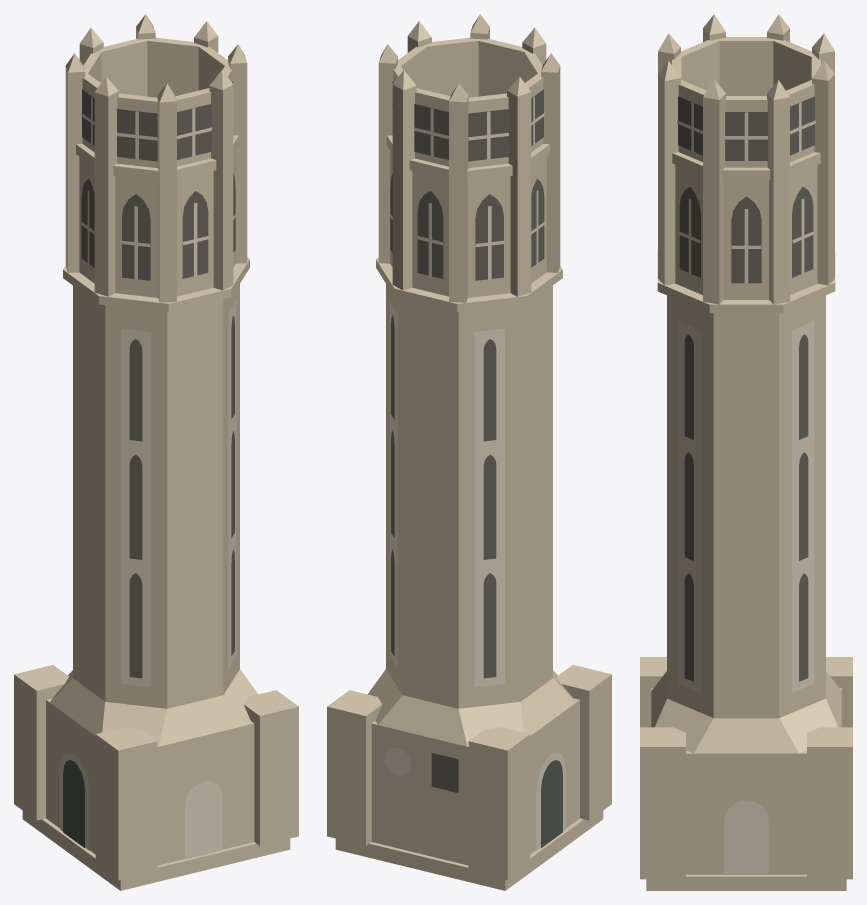
Rendered from det-peace-carillon.glb.
The picture shows the model from 3 angles, left to right: view 1: azimuth 30°, elevation 25°; view 2: azimuth 150°, elevation 25°; view 3: azimuth 270°, elevation 25°; orthographic projection. The views are drawn at different scales.
Visible parts, largest first — view 1: Nancy Brown Peace Carillon; view 2: Nancy Brown Peace Carillon; view 3: Nancy Brown Peace Carillon.
Part boxes in pixels (x1=…): Nancy Brown Peace Carillon: x1=14, y1=14, x2=298, y2=890; Nancy Brown Peace Carillon: x1=327, y1=14, x2=611, y2=890; Nancy Brown Peace Carillon: x1=640, y1=14, x2=852, y2=890.
Size of the model in its own units: 6.7 by 27.85 by 6.7.
